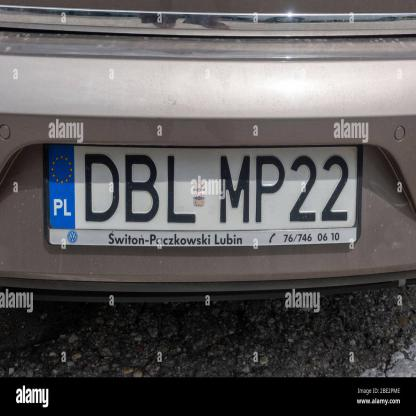Plates: (43, 136, 364, 255)
